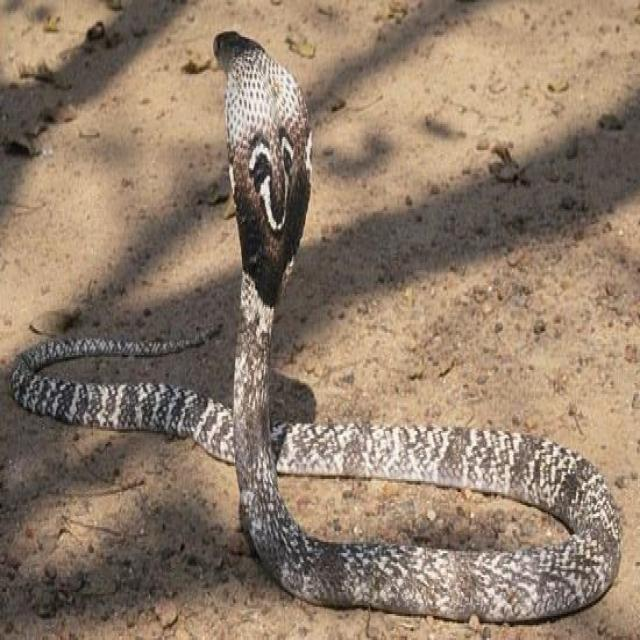Snake: (8, 28, 623, 623)
